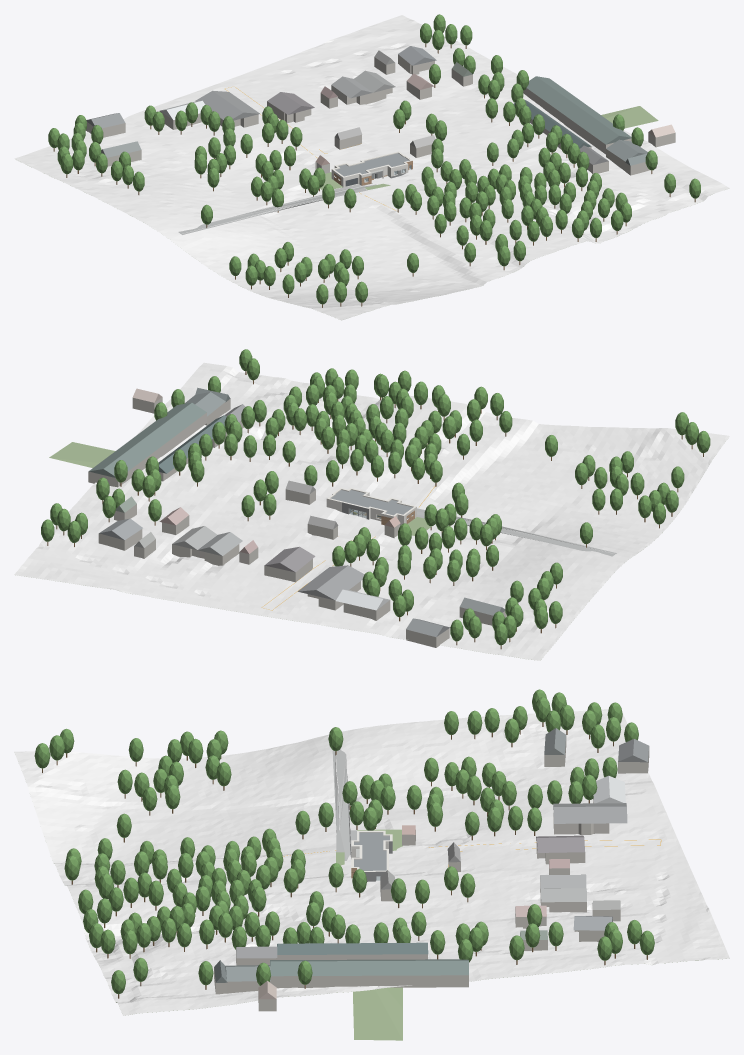
Rendered from dom_bryla.glb.
3 views of the same model, one above another, from view 1: azimuth 30°, elevation 25°; view 2: azimuth 150°, elevation 25°; view 3: azimuth 270°, elevation 25° (orthographic). The views are drawn at different scales.
Visible parts, largest first — view 1: GEO_ORTHO_TEXTURED, GEO_DRZEWA_KORONY, GEO_BUDYNEK_DACH_015, PODWORKO_kostka_PZT, GEO_BUDYNEK_DACH_009, TEREN_trawnik_PZT, GEO_BUDYNEK_SCIANY_015, DACH_wypelnienie_BEZ_SPADKOW, GEO_DRZEWA_PNIE, GEO_BUDYNEK_DACH_004, GEO_BUDYNEK_DACH_010, GEO_BUDYNEK_DACH_007 (+2 smaller); view 2: GEO_ORTHO_TEXTURED, GEO_DRZEWA_KORONY, GEO_BUDYNEK_DACH_015, GEO_BUDYNEK_DACH_009, TEREN_trawnik_PZT, GEO_BUDYNEK_SCIANY_015, PODWORKO_kostka_PZT, DACH_wypelnienie_BEZ_SPADKOW, GEO_DRZEWA_PNIE, GEO_BUDYNEK_DACH_004, GEO_BUDYNEK_DACH_010, GEO_BUDYNEK_DACH_012 (+5 smaller); view 3: GEO_ORTHO_TEXTURED, GEO_DRZEWA_KORONY, GEO_BUDYNEK_DACH_015, TEREN_trawnik_PZT, GEO_BUDYNEK_SCIANY_015, GEO_BUDYNEK_DACH_010, GEO_BUDYNEK_DACH_009, PODWORKO_kostka_PZT, DACH_wypelnienie_BEZ_SPADKOW, GEO_DRZEWA_PNIE, GEO_BUDYNEK_SCIANY_010, GEO_BUDYNEK_DACH_004 (+5 smaller).
Part boxes in pixels (x1,y1,x2,y2): GEO_ORTHO_TEXTURED: (14,15,729,320); GEO_DRZEWA_KORONY: (48,14,700,304); GEO_BUDYNEK_DACH_015: (526,76,631,144); PODWORKO_kostka_PZT: (178,183,376,234); GEO_BUDYNEK_DACH_009: (196,90,259,120); TEREN_trawnik_PZT: (319,106,658,190); GEO_BUDYNEK_SCIANY_015: (523,88,631,154); DACH_wypelnienie_BEZ_SPADKOW: (335,153,408,176); GEO_DRZEWA_PNIE: (53,43,695,307); GEO_BUDYNEK_DACH_004: (267,92,314,114); GEO_BUDYNEK_DACH_010: (513,100,591,148); GEO_BUDYNEK_DACH_007: (354,70,395,92); GEO_ORTHO_TEXTURED: (14,362,729,660); GEO_DRZEWA_KORONY: (41,349,710,645); GEO_BUDYNEK_DACH_015: (88,402,206,477); GEO_BUDYNEK_DACH_009: (298,565,364,600); TEREN_trawnik_PZT: (49,442,431,535); GEO_BUDYNEK_SCIANY_015: (88,412,206,487); PODWORKO_kostka_PZT: (417,508,616,556); DACH_wypelnienie_BEZ_SPADKOW: (331,490,412,515); GEO_DRZEWA_PNIE: (47,371,703,649); GEO_BUDYNEK_DACH_004: (264,546,315,572); GEO_BUDYNEK_DACH_010: (158,415,226,473); GEO_BUDYNEK_DACH_012: (336,589,389,610); GEO_ORTHO_TEXTURED: (14,709,729,1015); GEO_DRZEWA_KORONY: (34,689,654,994); GEO_BUDYNEK_DACH_015: (270,959,468,976); TEREN_trawnik_PZT: (336,829,402,1040); GEO_BUDYNEK_SCIANY_015: (270,975,468,988); GEO_BUDYNEK_DACH_010: (277,942,428,954); GEO_BUDYNEK_DACH_009: (553,803,627,823); PODWORKO_kostka_PZT: (332,749,356,860); DACH_wypelnienie_BEZ_SPADKOW: (354,832,389,870); GEO_DRZEWA_PNIE: (42,722,647,998); GEO_BUDYNEK_SCIANY_010: (277,954,427,959); GEO_BUDYNEK_DACH_004: (536,835,584,852).
Bounding box in the file's own units: 218 × 18.03 × 208.
